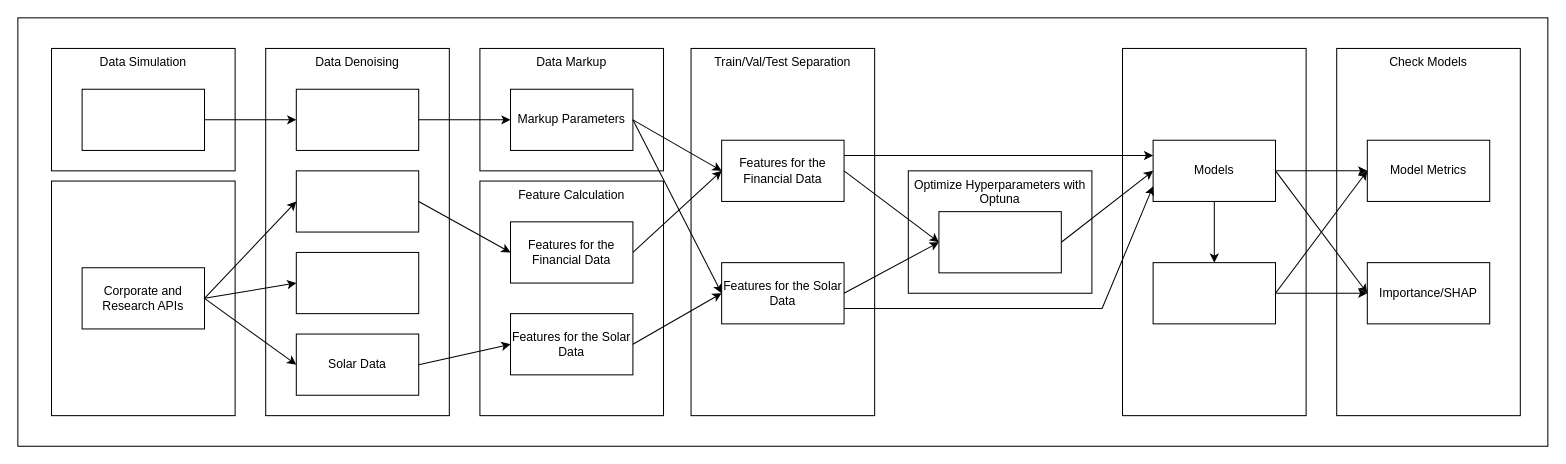
The diagram is 1566 pixels wide and 464 high, and some of its shapes have lost their labels. Here are the shapes that lost their labels. From the top down, the box of each, then its label:
(81, 88, 205, 150): Sand Pile Simulation
(295, 88, 419, 150): Simulated Data
(295, 170, 419, 232): Financial Data
(938, 211, 1061, 273): Optimized Hyperparameters
(1121, 47, 1306, 416): Train/Val/Test Models
(50, 180, 235, 416): Data Extraction
(295, 251, 419, 314): Seismic Data
(1152, 262, 1276, 324): Predictions
